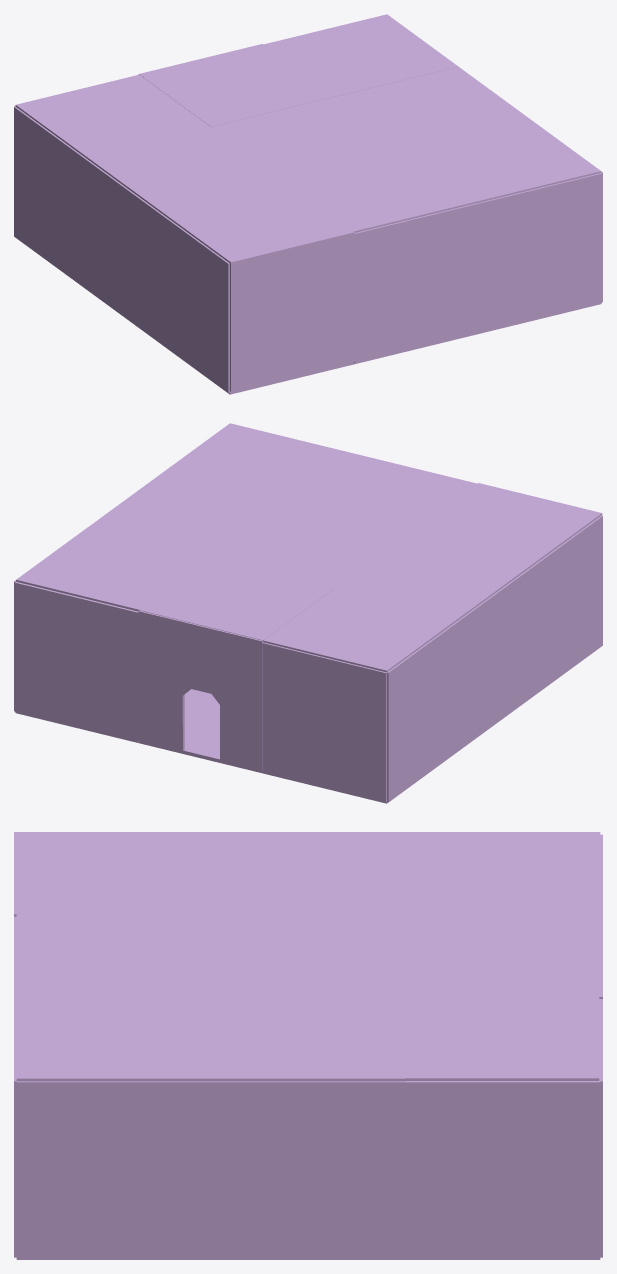
File: lvl 1 no destruction.fbx
3 views of the same model, one above another, from view 1: azimuth 30°, elevation 25°; view 2: azimuth 150°, elevation 25°; view 3: azimuth 270°, elevation 25° (orthographic). The views are drawn at different scales.
Visible parts, largest first — view 1: plain wall.016, plain wall.015, plain wall.014, plain wall.019, plain wall.018, plain wall.017, plain wall.025, plain wall.024, plain wall.022, plain wall.028, plain wall.003, plain wall.002 (+3 smaller); view 2: plain wall, plain wall.001, doored wall 1, plain wall.017, plain wall.018, plain wall.019, plain wall.022, plain wall.002, plain wall.028, plain wall.003, plain wall.026, plain wall.025 (+4 smaller); view 3: plain wall.011, plain wall.013, plain wall.012, plain wall.024, plain wall.023, plain wall.002, plain wall.025, plain wall.003, plain wall.027, plain wall.028, plain wall.022, plain wall.026 (+2 smaller).
Part boxes in pixels (x1,y1,x2,y2): plain wall.016: [229, 231, 354, 391]; plain wall.015: [353, 203, 478, 363]; plain wall.014: [478, 173, 602, 332]; plain wall.019: [157, 211, 229, 393]; plain wall.018: [85, 159, 158, 340]; plain wall.017: [14, 106, 86, 288]; plain wall.025: [282, 149, 477, 232]; plain wall.024: [406, 119, 601, 202]; plain wall.022: [15, 74, 210, 158]; plain wall.028: [87, 127, 281, 210]; plain wall.003: [139, 44, 333, 126]; plain wall.002: [263, 14, 458, 96]; plain wall: [14, 581, 139, 742]; plain wall.001: [262, 642, 386, 802]; doored wall 1: [138, 610, 262, 770]; plain wall.017: [387, 620, 459, 802]; plain wall.018: [458, 568, 531, 749]; plain wall.019: [530, 515, 602, 697]; plain wall.022: [263, 588, 458, 672]; plain wall.002: [16, 527, 210, 611]; plain wall.028: [335, 536, 529, 619]; plain wall.003: [139, 558, 334, 641]; plain wall.026: [406, 484, 601, 567]; plain wall.025: [282, 453, 476, 535]; plain wall.011: [405, 1081, 600, 1258]; plain wall.013: [16, 1081, 211, 1258]; plain wall.012: [211, 1081, 405, 1258]; plain wall.024: [16, 996, 211, 1081]; plain wall.023: [211, 996, 405, 1081]; plain wall.002: [405, 996, 599, 1080]; plain wall.025: [16, 914, 211, 996]; plain wall.003: [405, 914, 600, 996]; plain wall.027: [211, 914, 405, 996]; plain wall.028: [211, 832, 405, 914]; plain wall.022: [405, 832, 600, 913]; plain wall.026: [19, 832, 211, 914].
Bounding box in the file's own units: 1211 × 411 × 1211.
